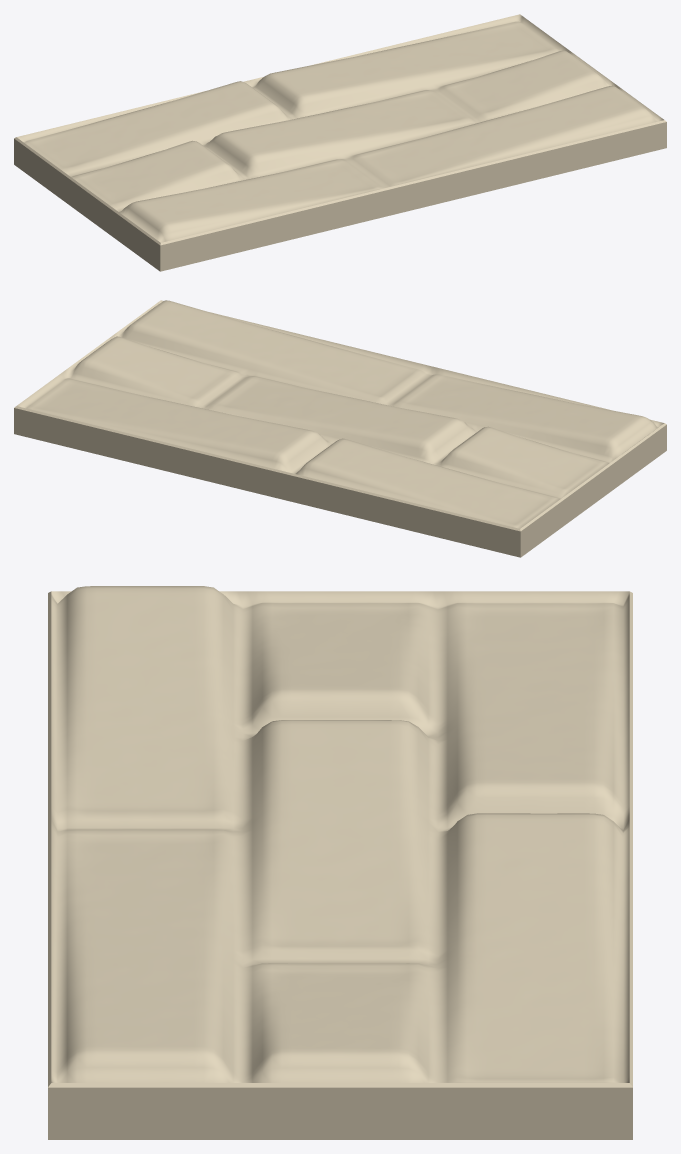
Rendered from mahsulot.glb.
The picture shows the model from 3 angles, top to bottom: view 1: azimuth 30°, elevation 25°; view 2: azimuth 150°, elevation 25°; view 3: azimuth 270°, elevation 25°; orthographic projection. The views are drawn at different scales.
Visible parts, largest first — view 1: mahsulot; view 2: mahsulot; view 3: mahsulot.
Part boxes in pixels (bbox=[...]): mahsulot: bbox=[14, 14, 666, 271]; mahsulot: bbox=[14, 300, 666, 557]; mahsulot: bbox=[48, 586, 632, 1139].
Size of the model in its own units: 0.5 by 0.0346 by 0.25.
